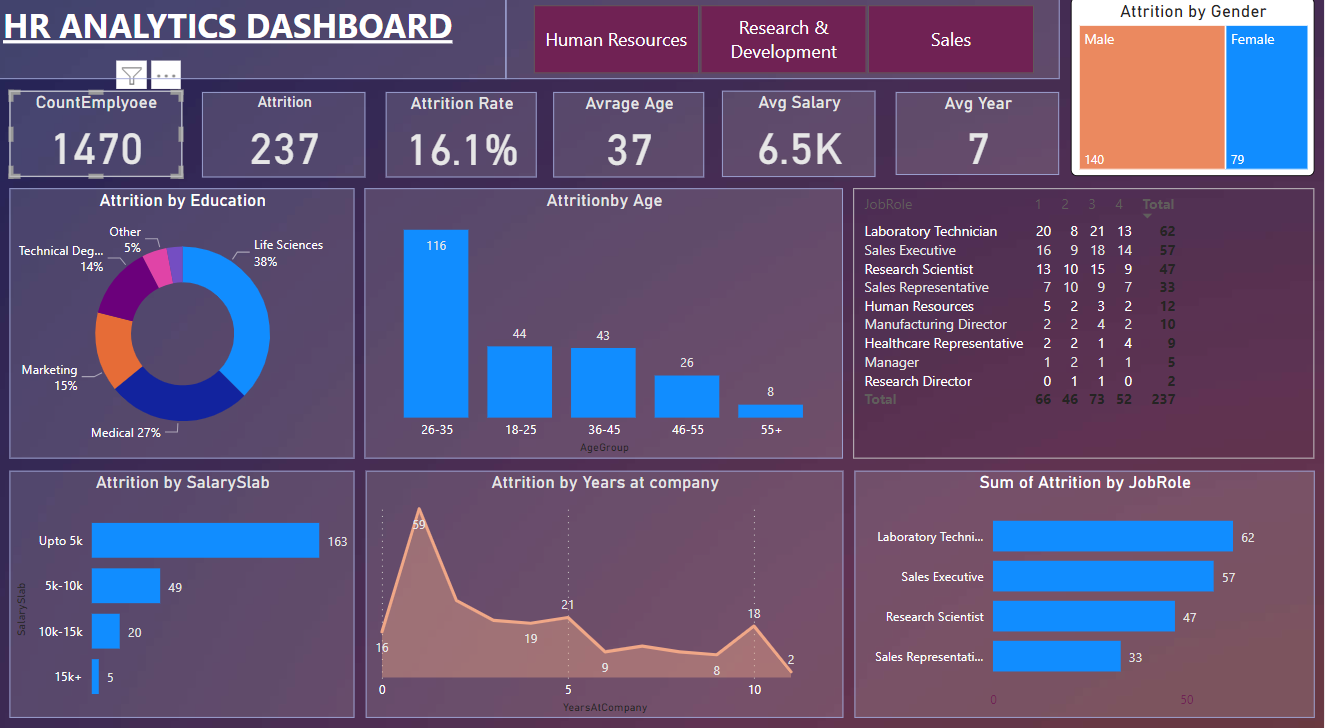

The dashboard page shown, as its layout file describes it:
{"tool":"powerbi","page":{"name":"Page 1","canvas":[1280,720],"ordinal":0},"visuals":[{"type":"card","title":"CountEmplyoee","fields":{"Values":["CountNonNull(HR_Analytics.EmpID)"]},"box":[0,104.9,178.5,83.2],"z":0},{"type":"card","title":"Attrition Rate","fields":{"Values":["Min(HR_Analytics.AttritionRate)"]},"box":[375.1,104.9,145.9,83.2],"z":1000},{"type":"card","title":"Avrage Age","fields":{"Values":["Avg(HR_Analytics.Age)"]},"box":[536.7,106.1,138.7,82],"z":2000},{"type":"card","title":"Attrition","fields":{"Values":["Sum(HR_Analytics.AttritionCount)"]},"box":[197.8,106.1,158,82],"z":3000},{"type":"card","title":"Avg Years","fields":{"Values":["Avg(HR_Analytics.YearsAtCompany)"]},"box":[867.1,106.5,157.7,80.2],"z":4000},{"type":"card","title":"Avg Salary","fields":{"Values":["Avg(HR_Analytics.MonthlyIncome)"]},"box":[699.5,104.9,148.3,83.2],"z":5000},{"type":"donutChart","title":"Attrition by Education","fields":{"Category":["HR_Analytics.EducationField"],"Y":["Sum(HR_Analytics.AttritionCount)"]},"box":[0,187.8,355.1,283.8],"z":6000},{"type":"columnChart","title":"Attritionby Age","fields":{"Category":["HR_Analytics.AgeGroup"],"Y":["Sum(HR_Analytics.AttritionCount)"]},"box":[355.1,187.8,471.6,283.8],"z":7000},{"type":"clusteredBarChart","title":"Attrition by SalarySlab","fields":{"Category":["HR_Analytics.SalarySlab"],"Y":["Sum(HR_Analytics.AttritionCount)"]},"box":[0,471.6,355.1,248.2],"z":8000},{"type":"barChart","title":"Sum of Attrition by JobRole","fields":{"Category":["HR_Analytics.JobRole"],"Y":["Sum(HR_Analytics.AttritionCount)"]},"box":[827.3,471.6,452.3,248.4],"z":9000},{"type":"treemap","title":"Attrition by Gender","fields":{"Group":["HR_Analytics.Gender"],"Values":["Sum(HR_Analytics.AttritionCount)"]},"box":[1025.1,14.5,254.5,172.5],"z":10000},{"type":"slicer","fields":{"Values":["HR_Analytics.Department"]},"box":[490.9,14.5,534.3,79.6],"z":11000},{"type":"textbox","box":[0,14.5,490.9,79.6],"z":12000},{"type":"areaChart","title":"Attrition by Years at company","fields":{"Category":["HR_Analytics.YearsAtCompany"],"Y":["Sum(HR_Analytics.AttritionCount)"]},"box":[355.1,471.6,471.6,248.2],"z":13000},{"type":"pivotTable","fields":{"Rows":["HR_Analytics.JobRole"],"Columns":["HR_Analytics.JobSatisfaction"],"Values":["Sum(HR_Analytics.AttritionCount)"]},"box":[827.3,188.1,452.3,283.4],"z":14000}]}

Visuals, with their boxes in screenshot pixels (x1, y1, x2, y2), scaled from the page's 1280x720 canvas onto the 1325x728 screenshot:
"CountEmplyoee" card: bbox=[0, 106, 185, 190]
"Attrition Rate" card: bbox=[388, 106, 539, 190]
"Avrage Age" card: bbox=[556, 107, 699, 190]
"Attrition" card: bbox=[205, 107, 368, 190]
"Avg Years" card: bbox=[898, 108, 1061, 189]
"Avg Salary" card: bbox=[724, 106, 878, 190]
"Attrition by Education" donutChart: bbox=[0, 190, 368, 477]
"Attritionby Age" columnChart: bbox=[368, 190, 856, 477]
"Attrition by SalarySlab" clusteredBarChart: bbox=[0, 477, 368, 727]
"Sum of Attrition by JobRole" barChart: bbox=[856, 477, 1324, 727]
"Attrition by Gender" treemap: bbox=[1061, 15, 1324, 189]
slicer - HR_Analytics.Department: bbox=[508, 15, 1061, 95]
textbox: bbox=[0, 15, 508, 95]
"Attrition by Years at company" areaChart: bbox=[368, 477, 856, 727]
pivotTable - HR_Analytics.JobRole x HR_Analytics.JobSatisfaction: bbox=[856, 190, 1324, 477]
